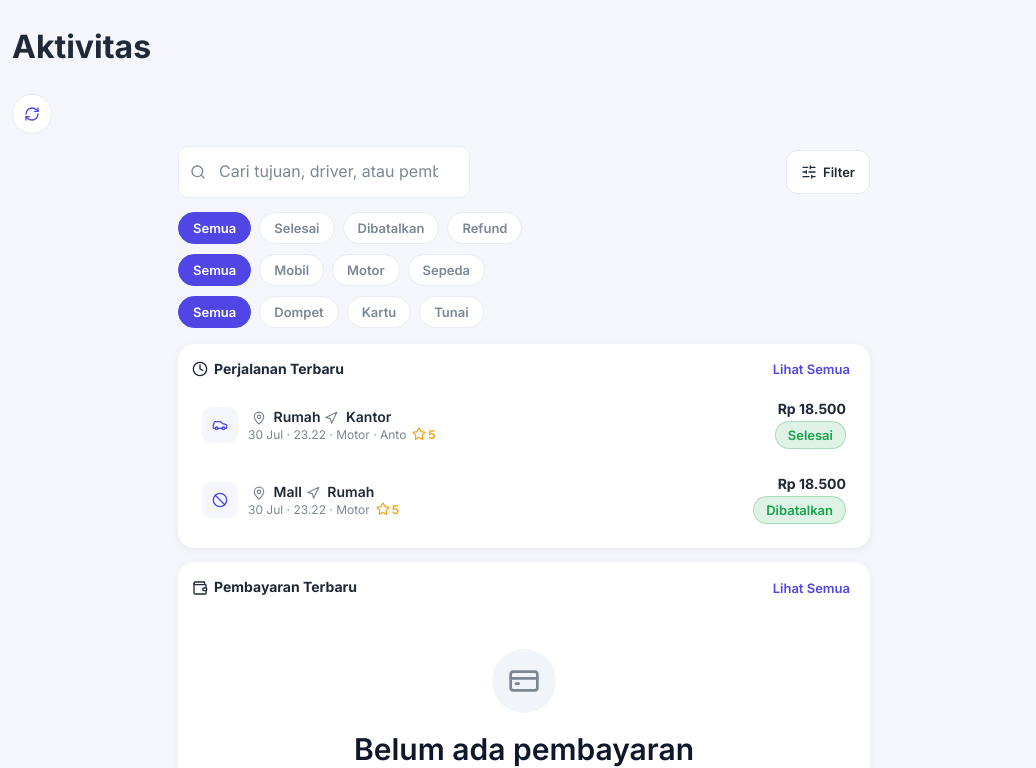
Test: ActivityHome — component › filters trips by status chip
The width and height of the screenshot is (1036, 768).
Expected: the text "Selesai" is shown, [775,421,846,449]
Note: Click the "Dibatalkan" status chip → only the cancelled trip remains.
Click the button "Dibatalkan". click: (391, 228)
box: [342,212,439,244]
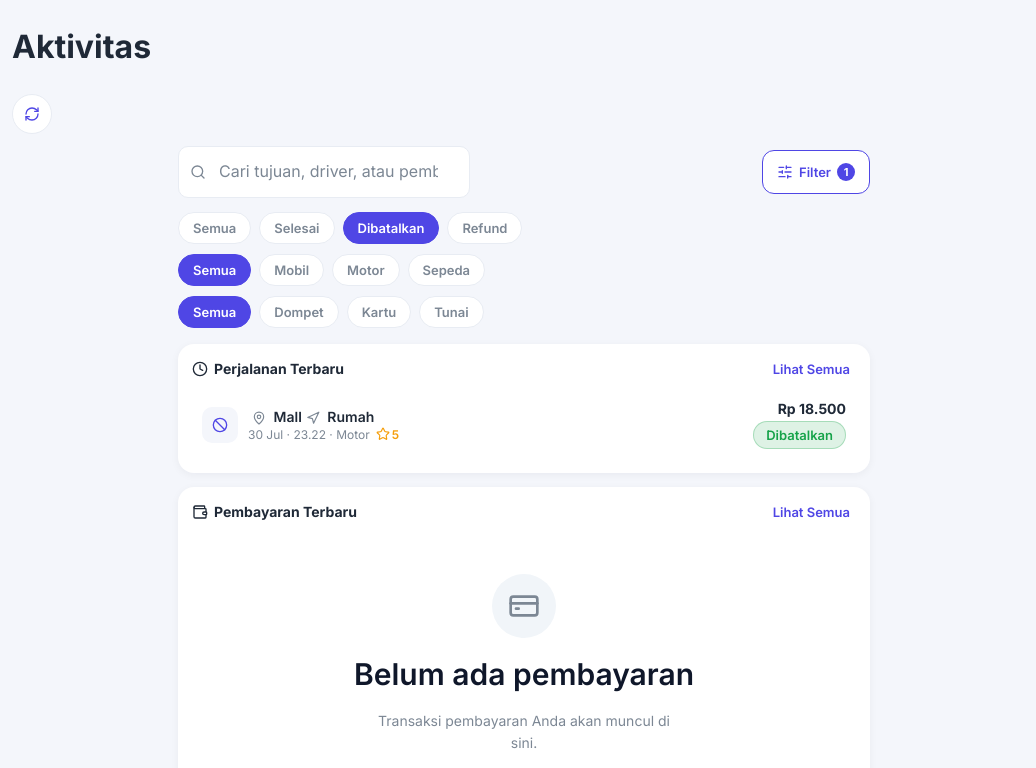
Expected: the text "Mall" is shown, [274,408,302,424]
Result: the button "anto" is gone
